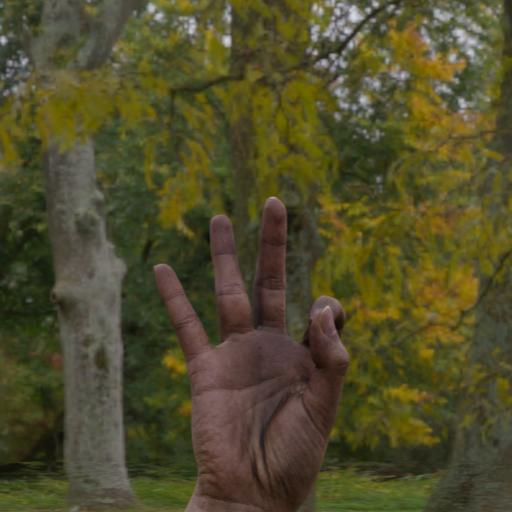F: (142, 192, 354, 508)
